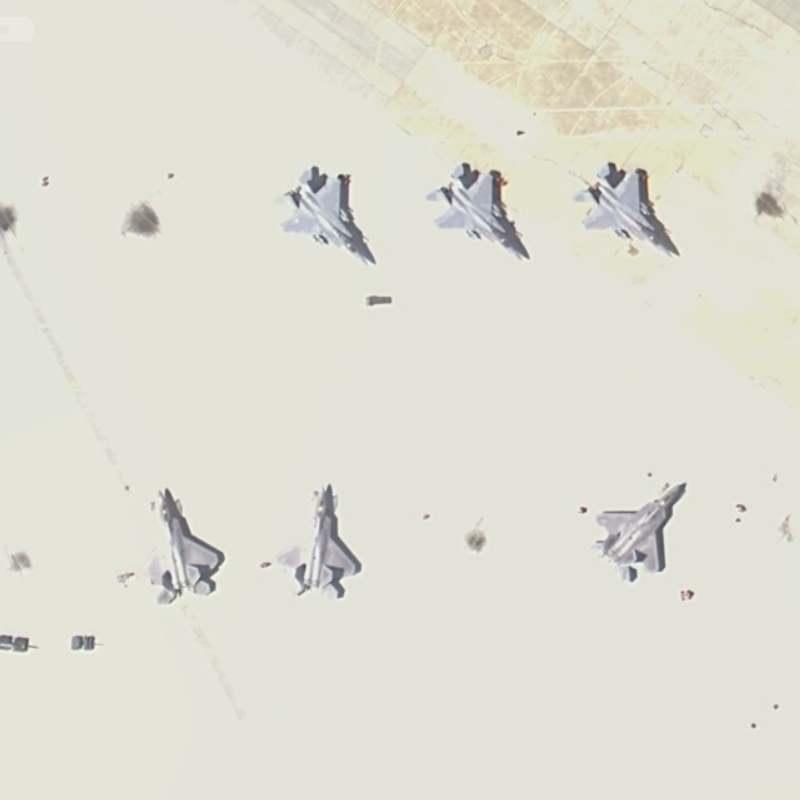A13: (560, 154, 687, 263), (264, 159, 386, 270), (420, 149, 537, 264)
A15: (591, 471, 693, 589), (273, 479, 366, 605), (139, 479, 231, 606)
